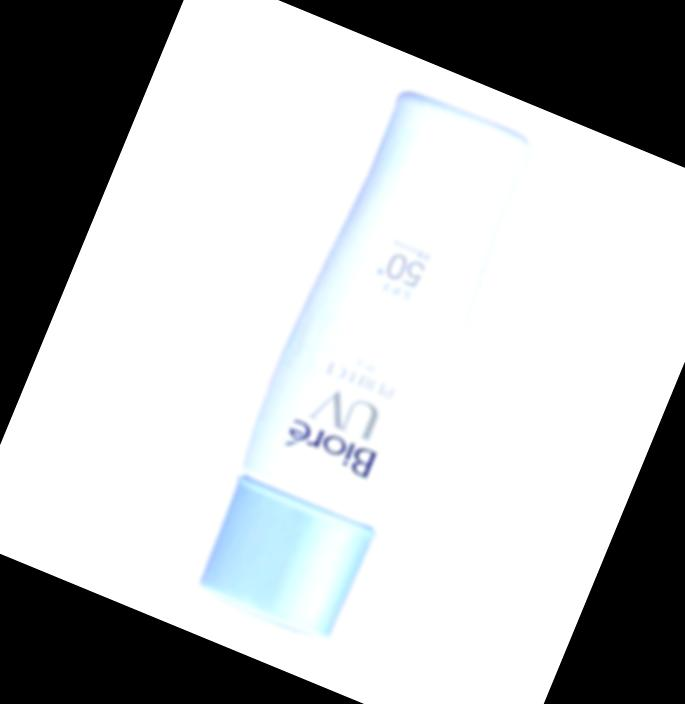cosmetic: (189, 86, 539, 641)
